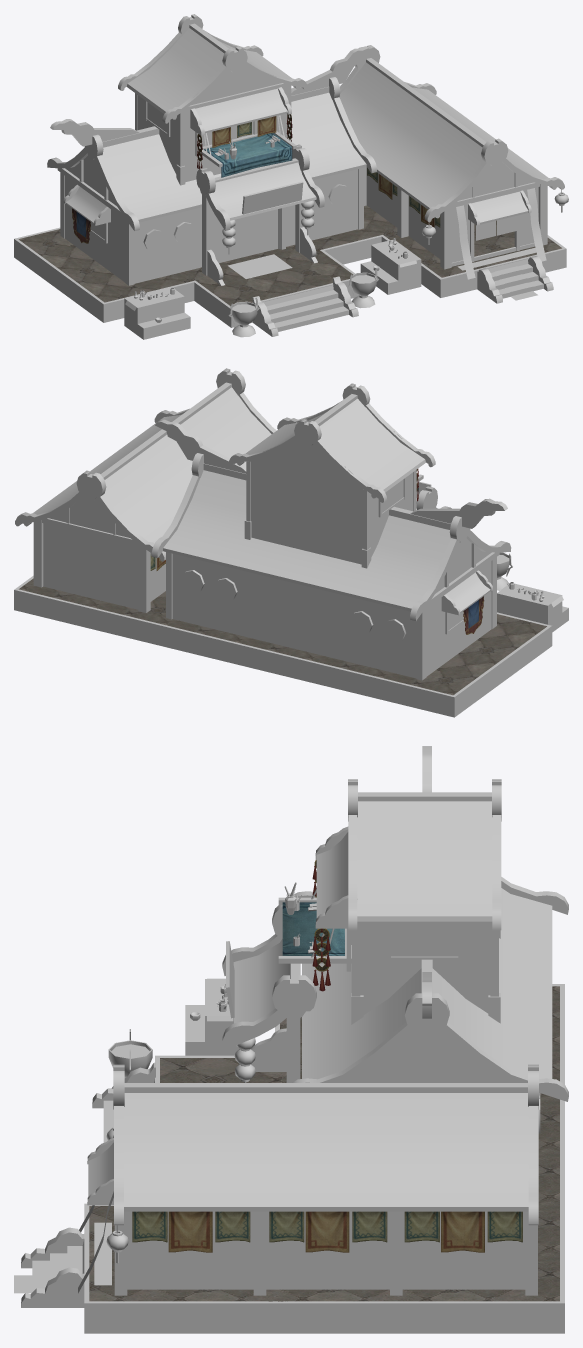
Rendered from s7_unioncity_jianzhu_dangpu.FBX.
3 renders of one model, top to bottom at view 1: azimuth 30°, elevation 25°; view 2: azimuth 150°, elevation 25°; view 3: azimuth 270°, elevation 25°, orthographic. The views are drawn at different scales.
Parts seen in each view (by area): view 1: s7_3d_lmzc_dangpu01, s7_3d_lmzc_dangpu06, s7_3d_lmzc_dangpu02, s7_3d_lmzc_dangpu05, s7_3d_lmzc_dangpu03, s7_3d_lmzc_dangpu04; view 2: s7_3d_lmzc_dangpu01, s7_3d_lmzc_dangpu06, s7_3d_lmzc_dangpu02; view 3: s7_3d_lmzc_dangpu01, s7_3d_lmzc_dangpu02, s7_3d_lmzc_dangpu06, s7_3d_lmzc_dangpu05.
Boxes of the visible parts, <box> form: s7_3d_lmzc_dangpu01: <box>14,14,568,339</box>; s7_3d_lmzc_dangpu06: <box>18,205,561,305</box>; s7_3d_lmzc_dangpu02: <box>72,114,440,243</box>; s7_3d_lmzc_dangpu05: <box>263,259,543,331</box>; s7_3d_lmzc_dangpu03: <box>213,209,277,262</box>; s7_3d_lmzc_dangpu04: <box>140,135,408,297</box>; s7_3d_lmzc_dangpu01: <box>14,368,568,717</box>; s7_3d_lmzc_dangpu06: <box>19,578,546,695</box>; s7_3d_lmzc_dangpu02: <box>150,469,484,634</box>; s7_3d_lmzc_dangpu01: <box>14,746,568,1333</box>; s7_3d_lmzc_dangpu02: <box>132,860,522,1252</box>; s7_3d_lmzc_dangpu06: <box>89,986,559,1301</box>; s7_3d_lmzc_dangpu05: <box>32,1079,154,1291</box>.
Size of the model in its own units: 23964 by 11894 by 16909.
